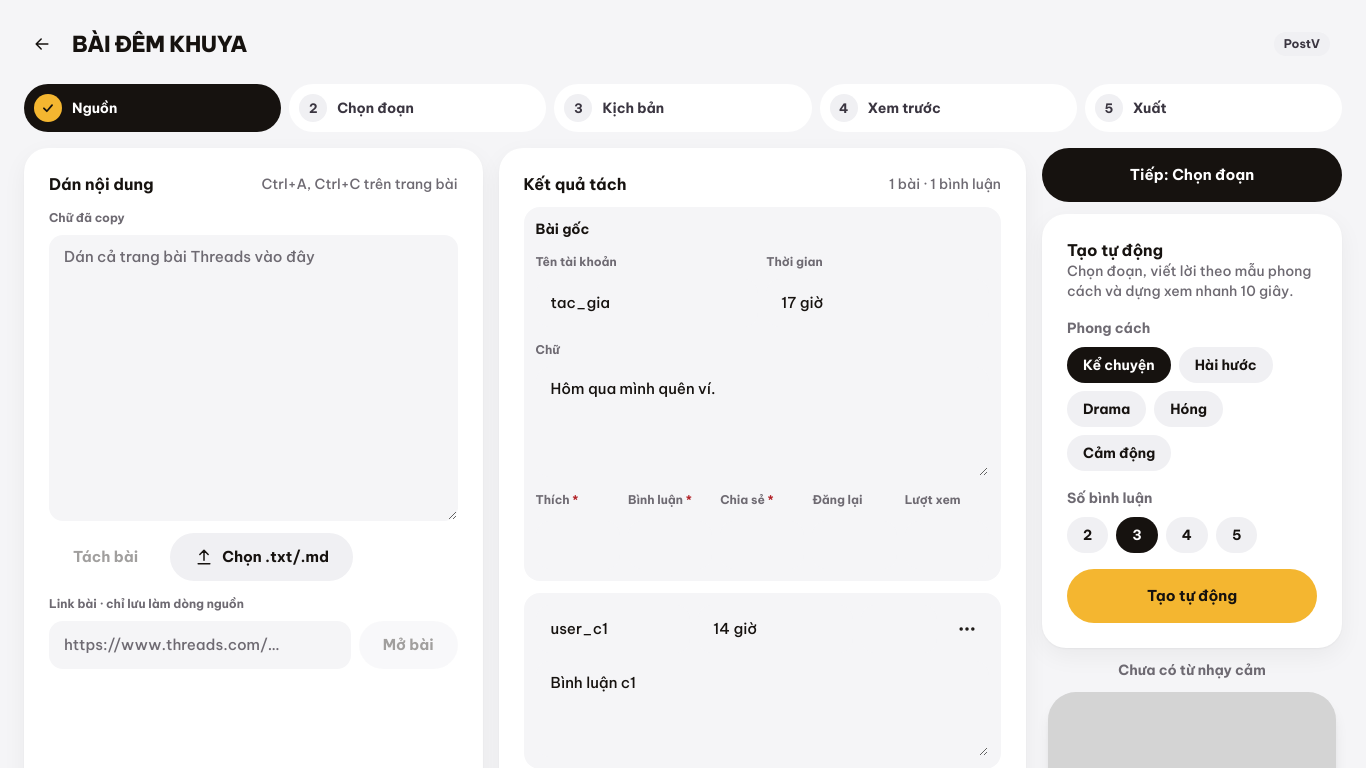
Bước 1 · Nhập nguồn › asks before replacing a source that already has content
The image size is (1366, 768).
Type "x" into the text box labelled "Chữ đã copy".
click(253, 378); type("x")  # box [49, 235, 458, 521]
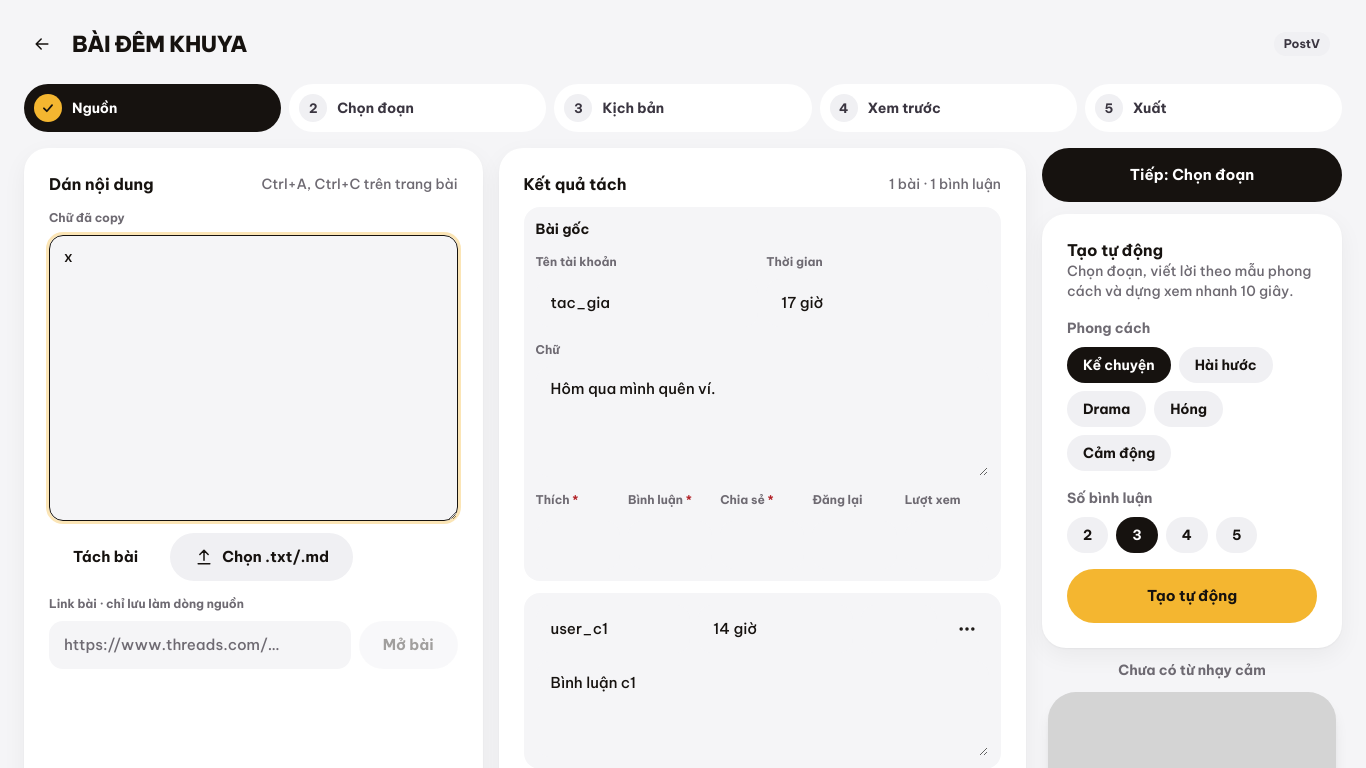
Click the button "Tách bài".
click(106, 557)  # box [49, 533, 162, 581]
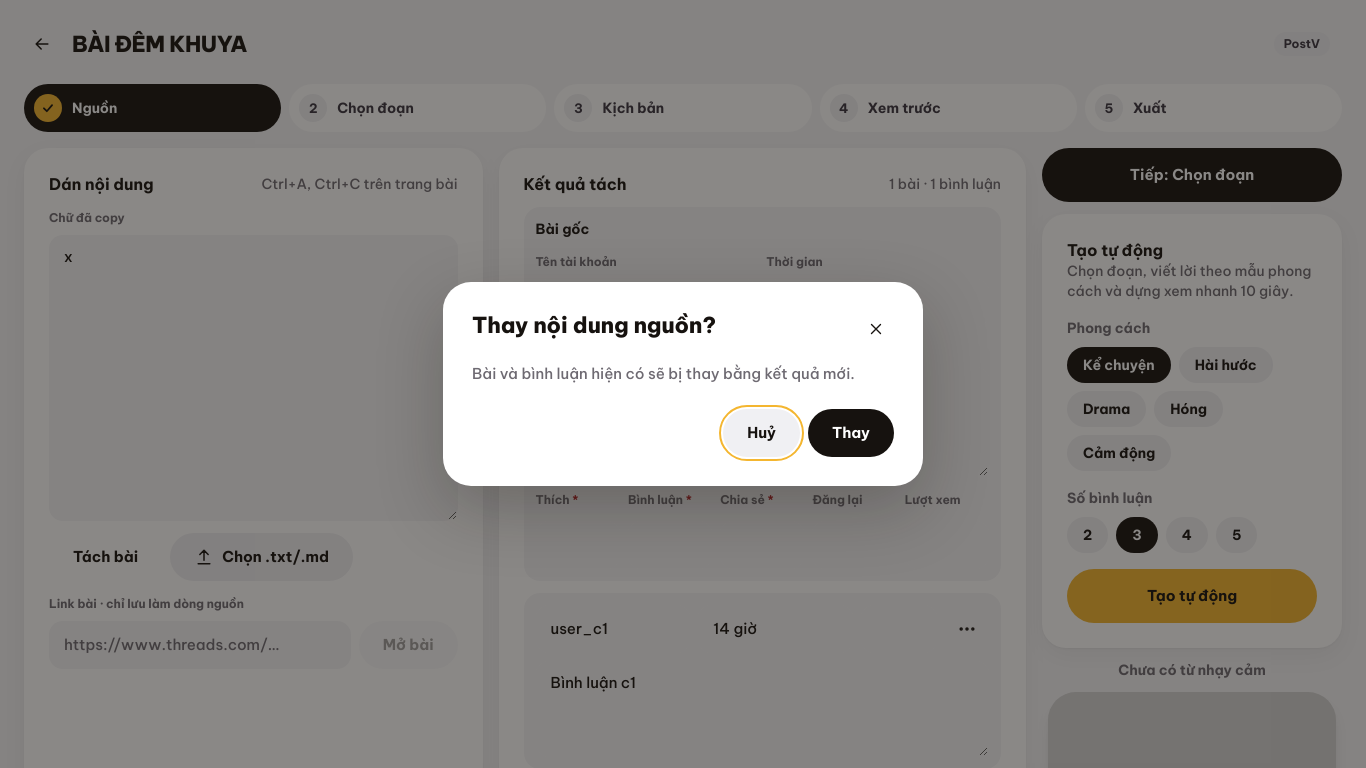
Click the button "Huỷ".
click(762, 433)  # box [723, 409, 800, 457]
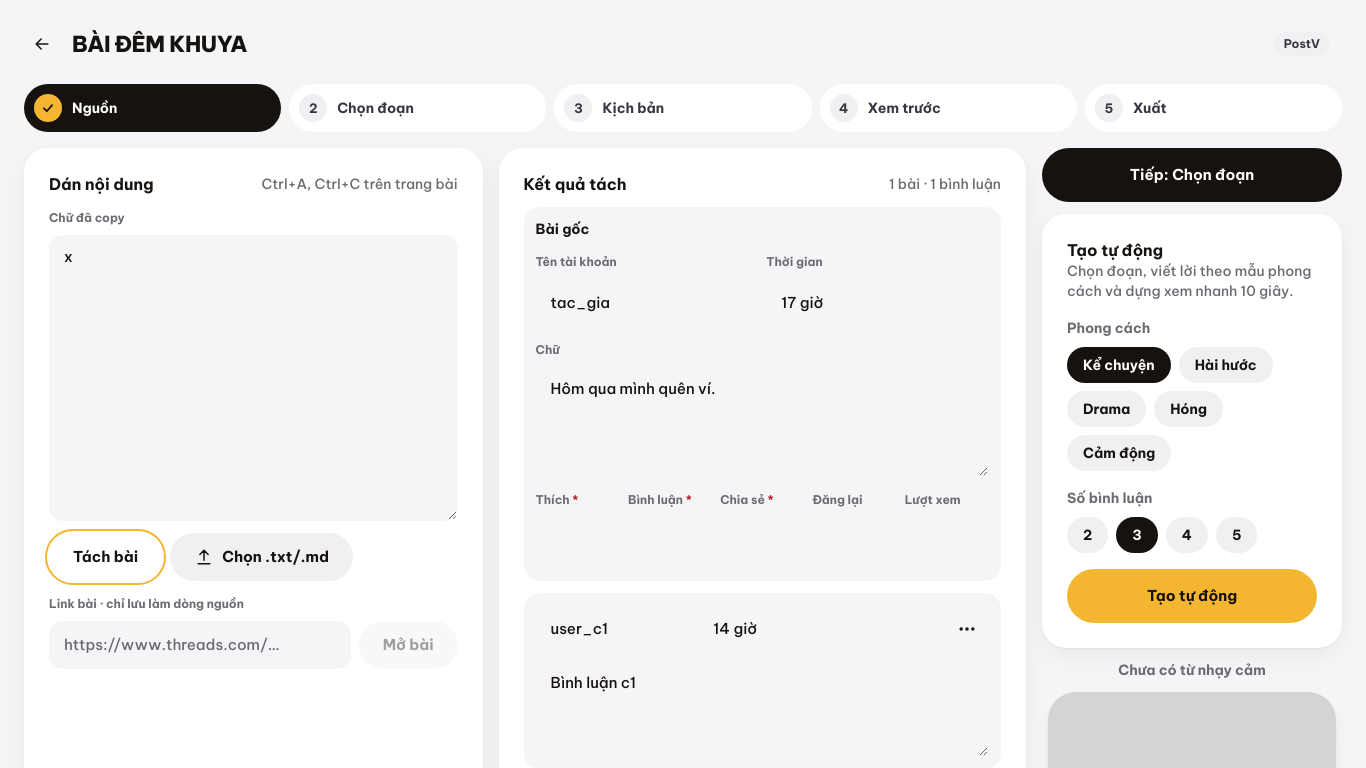
Expected: the field labelled "Tên tài khoản" holds "tac_gia", [536, 279, 758, 327]
Click the button "Tách bài".
click(106, 557)  # box [49, 533, 162, 581]
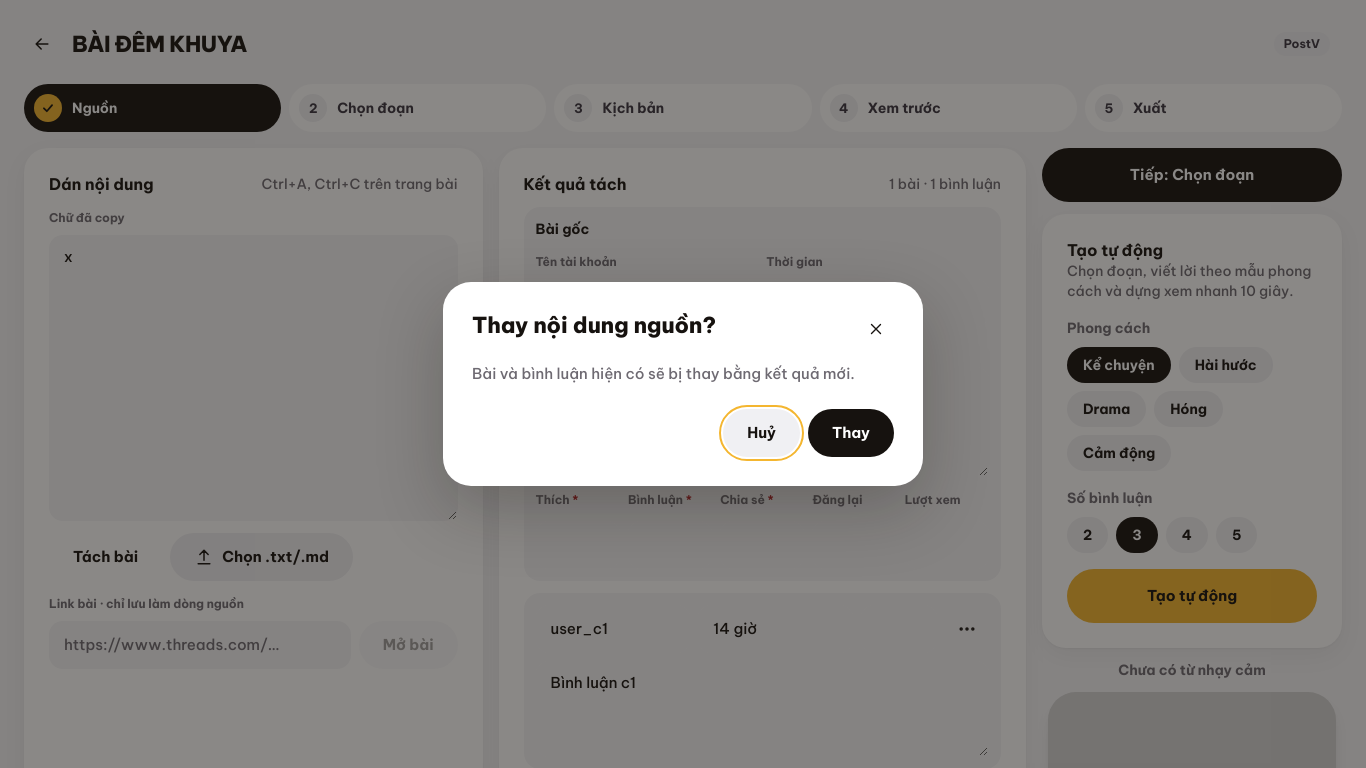
Click the button "Thay".
click(851, 433)  # box [808, 409, 894, 457]
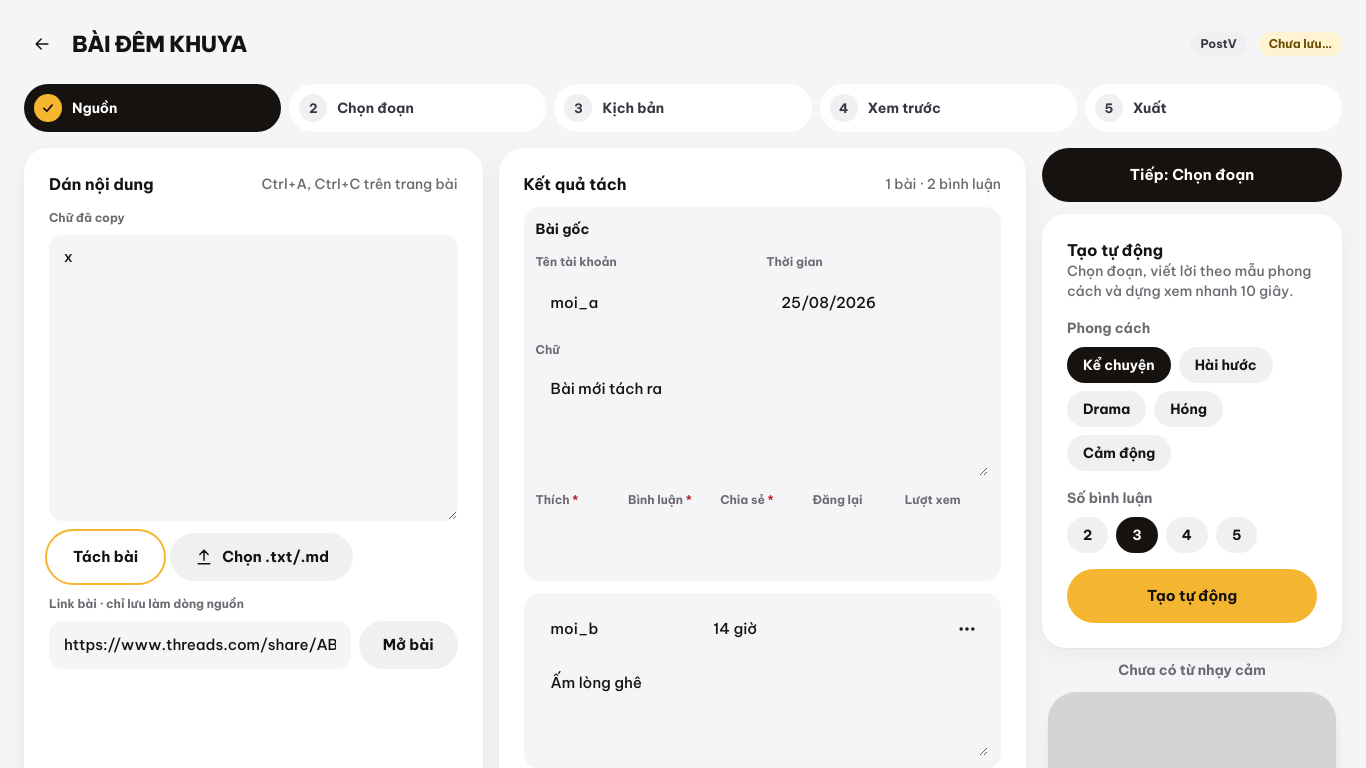
Expected: the field labelled "Tên tài khoản" holds "moi_a", [536, 279, 758, 327]
